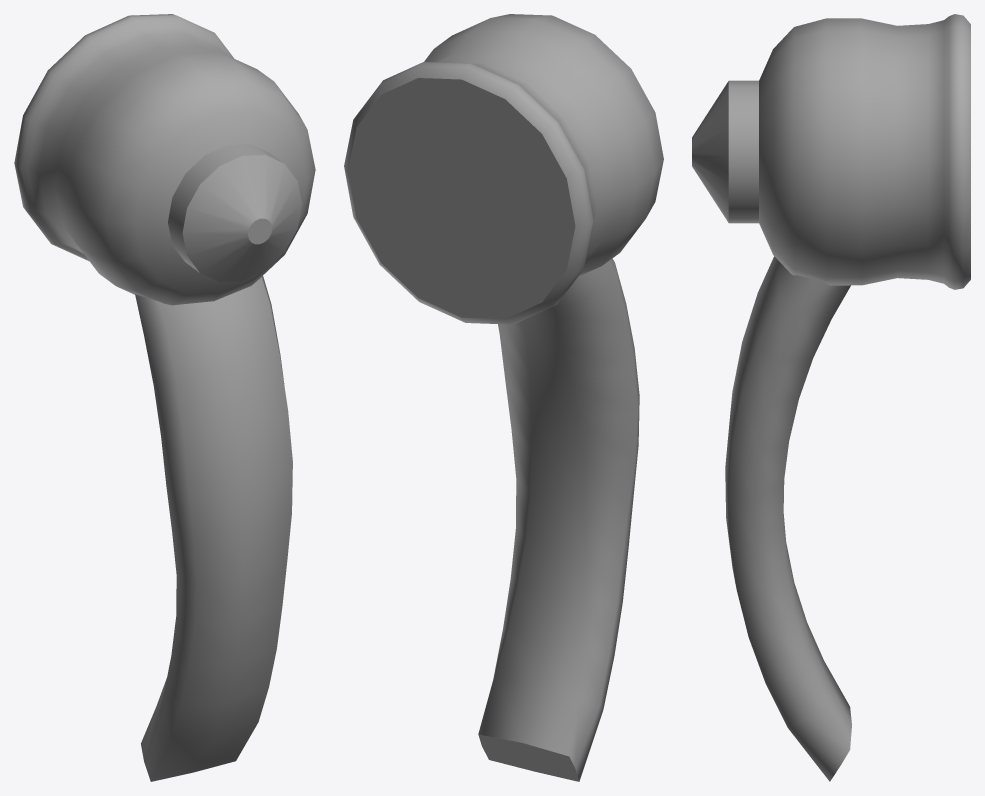
The model's file is SinkFaucetKnob_33_SinkFaucetKnob_33_1.obj.
The picture shows the model from 3 angles, left to right: view 1: azimuth 30°, elevation 25°; view 2: azimuth 150°, elevation 25°; view 3: azimuth 270°, elevation 25°; orthographic projection. The views are drawn at different scales.
Visible parts, largest first — view 1: SinkFaucetKnob_33; view 2: SinkFaucetKnob_33; view 3: SinkFaucetKnob_33.
Boxes of the visible parts, <box> form: SinkFaucetKnob_33: <box>14,14,315,781</box>; SinkFaucetKnob_33: <box>344,14,663,781</box>; SinkFaucetKnob_33: <box>692,14,970,781</box>.
Bounding box in the file's own units: 0.0681 × 0.1997 × 0.0687.
